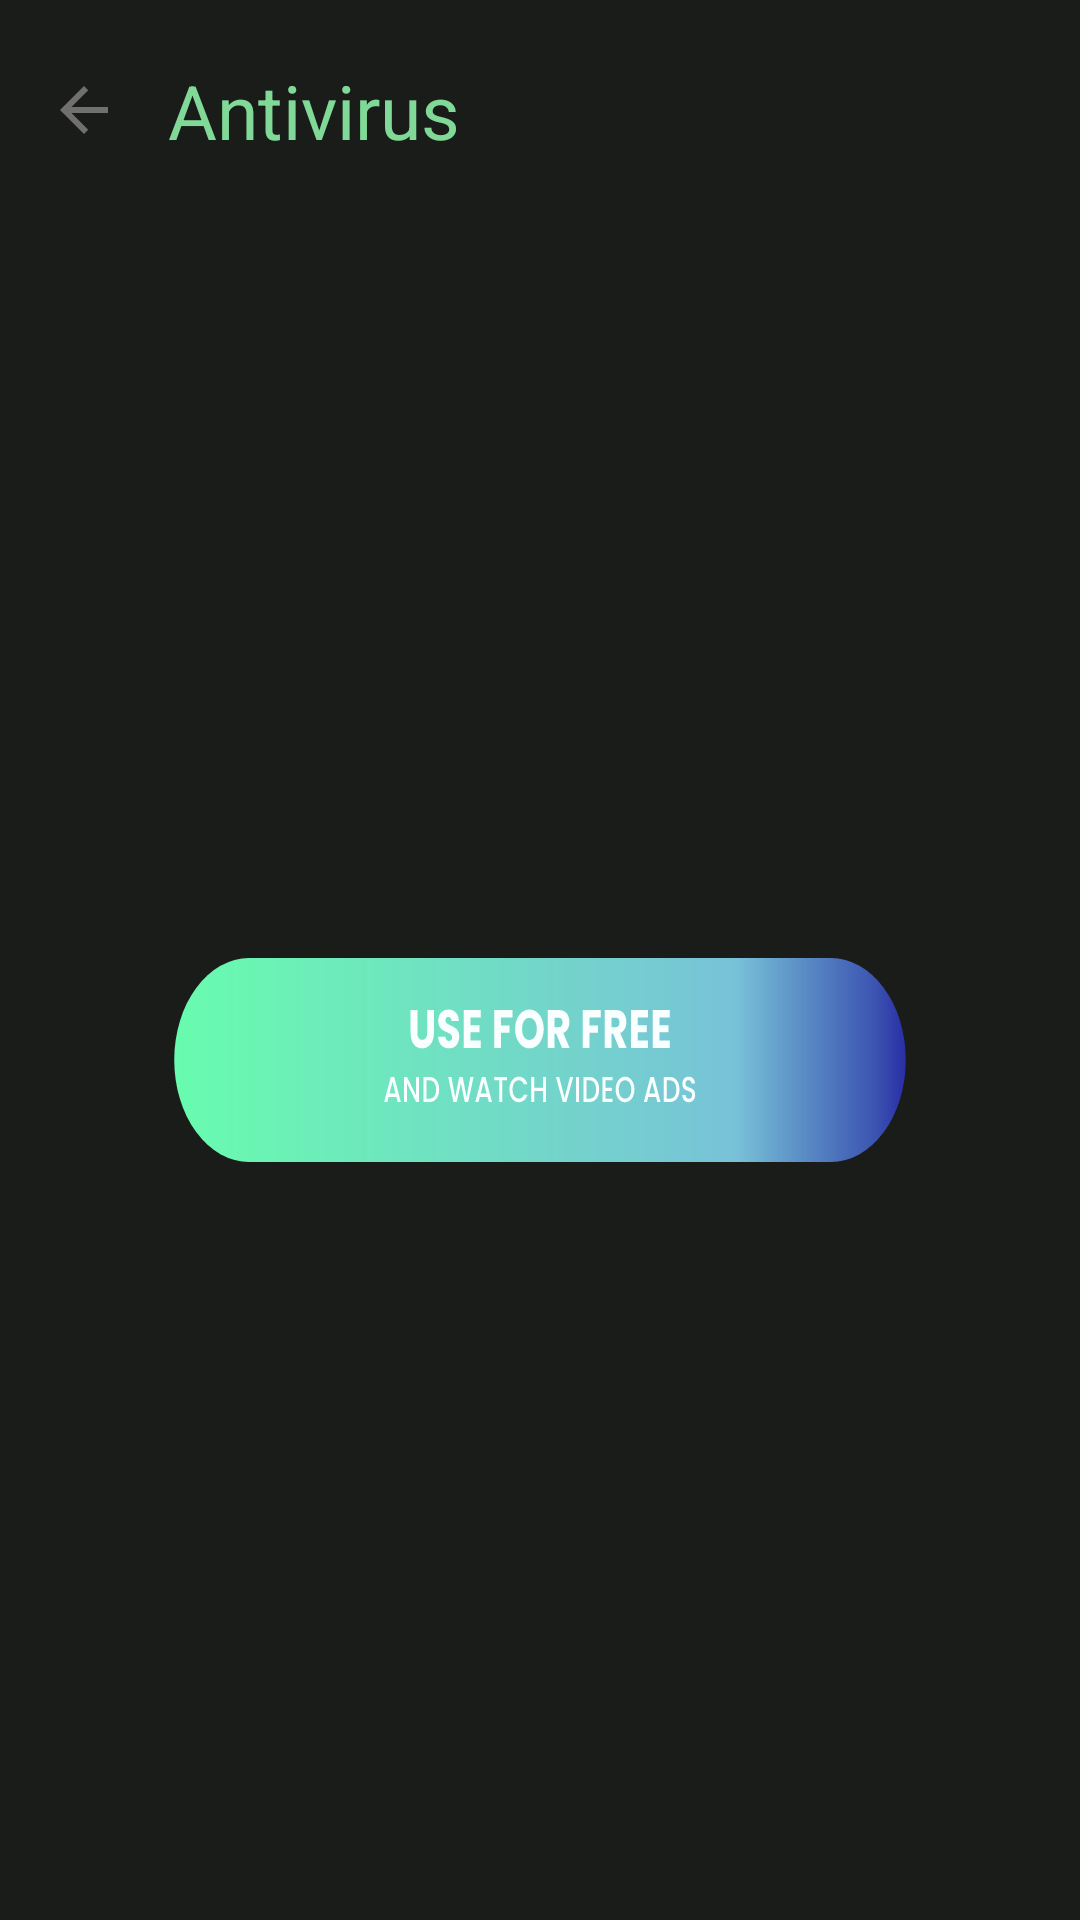

Icon click points for this 1080 x 1920 phone screenshot, format (x,y):
back: (84,110)
